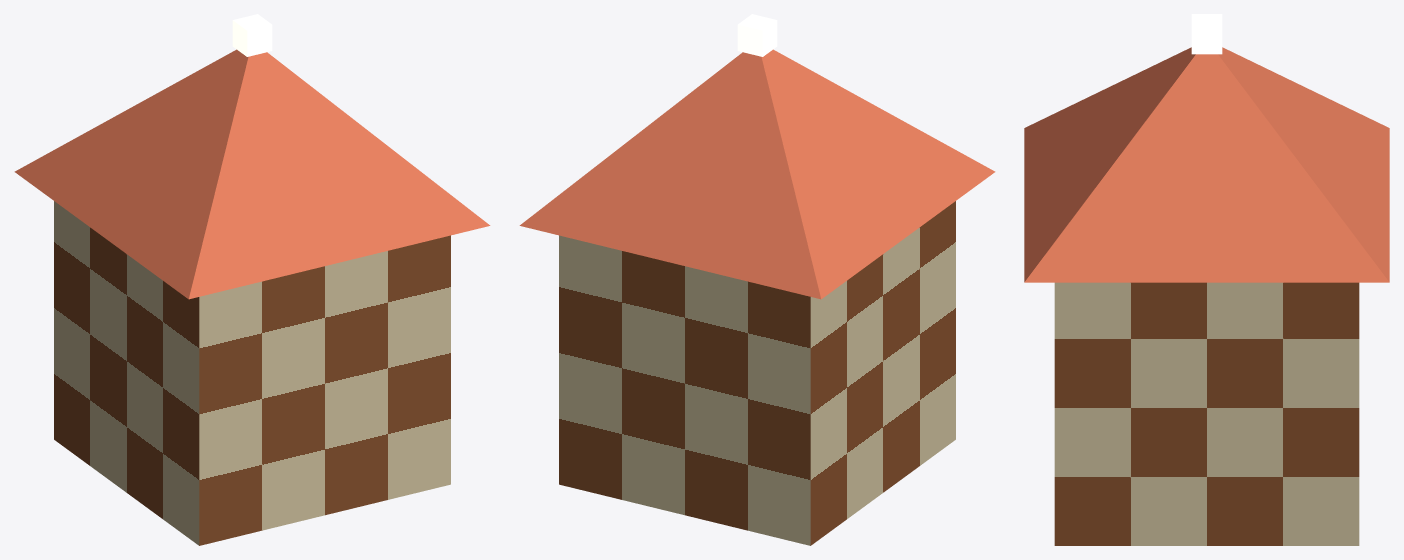
Rendered from house.glb.
3 renders of one model, left to right at view 1: azimuth 30°, elevation 25°; view 2: azimuth 150°, elevation 25°; view 3: azimuth 270°, elevation 25°, orthographic. The views are drawn at different scales.
Parts seen in each view (by area): view 1: House, Roof; view 2: House, Roof; view 3: House, Roof.
Boxes of the visible parts, <box> form: House: <box>54,201,450,545</box>; Roof: <box>14,14,490,299</box>; House: <box>559,201,955,545</box>; Roof: <box>519,14,995,299</box>; House: <box>1054,282,1359,545</box>; Roof: <box>1024,14,1389,282</box>.
Size of the model in its own units: 1.2 by 1.67 by 1.2.
3 materials, 1 textured.
